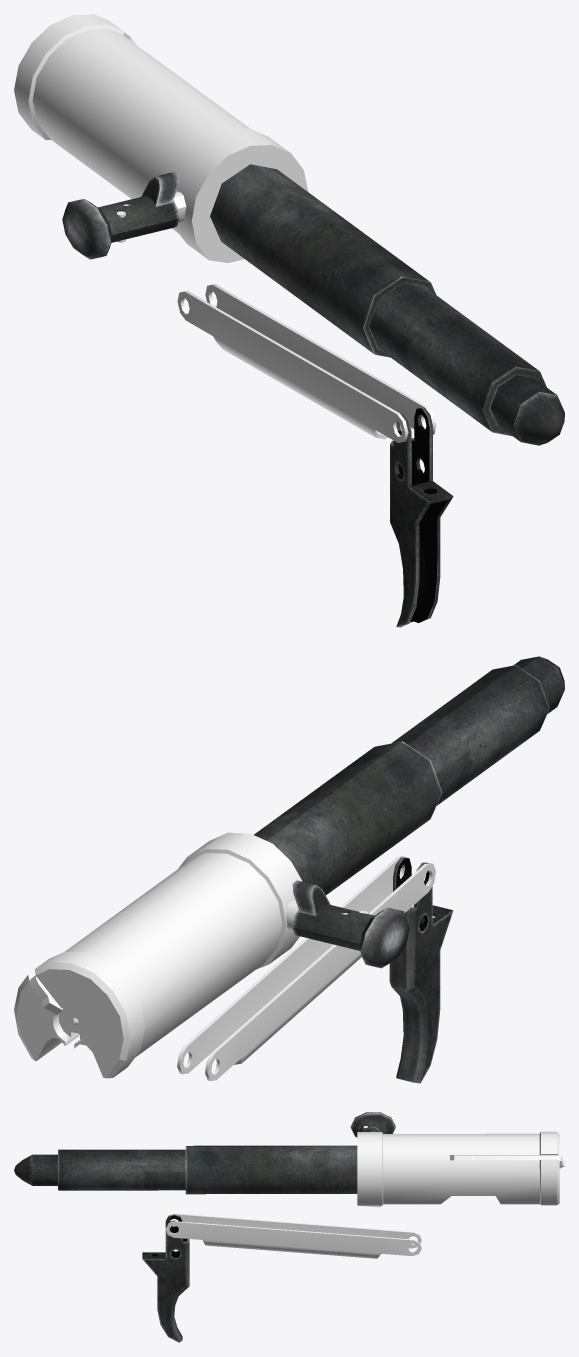
Rendered from mp40_bolt.glb.
The picture shows the model from 3 angles, top to bottom: view 1: azimuth 30°, elevation 25°; view 2: azimuth 150°, elevation 25°; view 3: azimuth 270°, elevation 25°; orthographic projection. The views are drawn at different scales.
Visible parts, largest first — view 1: Bolt_mesh_14, Tube_Front_mesh_108, Trigger_Rod_mesh_17, Tube_Middle_mesh_111, Trigger_mesh_113, Bolt_Grip_mesh_106, Tube_Spacer_mesh_112; view 2: Bolt_mesh_14, Tube_Front_mesh_108, Trigger_Rod_mesh_17, Tube_Middle_mesh_111, Trigger_mesh_113, Bolt_Grip_mesh_106, Tube_Spacer_mesh_112; view 3: Bolt_mesh_14, Tube_Front_mesh_108, Trigger_Rod_mesh_17, Tube_Middle_mesh_111, Trigger_mesh_113, Tube_Spacer_mesh_112, Bolt_Grip_mesh_106, Extractor_mesh_6.
Boxes of the visible parts, box(x1,y1,x2,y2) form: Bolt_mesh_14: box(14, 14, 308, 262); Tube_Front_mesh_108: box(210, 164, 436, 357); Trigger_Rod_mesh_17: box(177, 284, 436, 442); Tube_Middle_mesh_111: box(369, 283, 546, 436); Trigger_mesh_113: box(390, 408, 453, 627); Bolt_Grip_mesh_106: box(62, 172, 179, 259); Tube_Spacer_mesh_112: box(490, 375, 564, 445); Bolt_mesh_14: box(14, 832, 348, 1078); Tube_Front_mesh_108: box(254, 741, 442, 895); Trigger_Rod_mesh_17: box(177, 856, 435, 1080); Tube_Middle_mesh_111: box(391, 665, 549, 805); Trigger_mesh_113: box(389, 857, 453, 1083); Bolt_Grip_mesh_106: box(292, 880, 409, 968); Tube_Spacer_mesh_112: box(513, 656, 564, 713); Bolt_mesh_14: box(357, 1131, 559, 1207); Tube_Front_mesh_108: box(185, 1145, 357, 1194); Trigger_Rod_mesh_17: box(165, 1213, 421, 1258); Tube_Middle_mesh_111: box(58, 1149, 185, 1190); Trigger_mesh_113: box(142, 1214, 189, 1342); Tube_Spacer_mesh_112: box(14, 1154, 57, 1185); Bolt_Grip_mesh_106: box(350, 1112, 395, 1137); Extractor_mesh_6: box(453, 1155, 564, 1168).
Bounding box in the file's own units: 6.01 × 9.57 × 23.37.
Materials: 2 (1 with a texture image).
